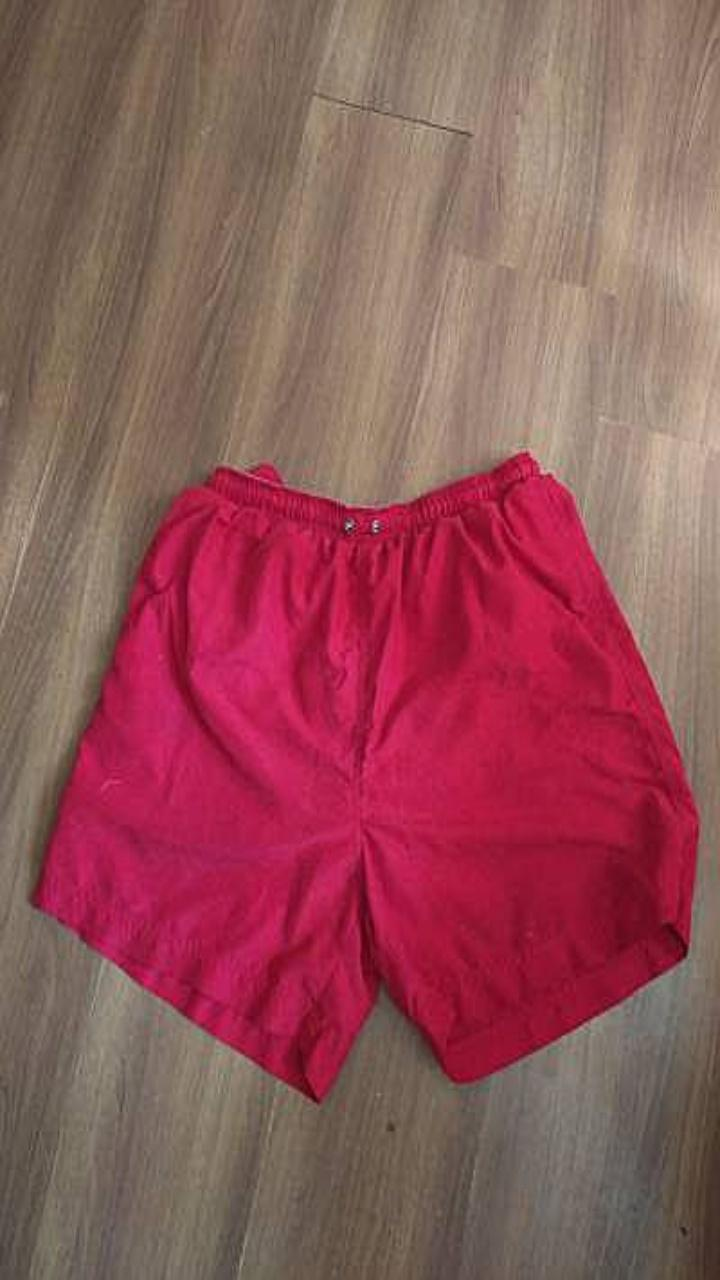Shorts: (31, 451, 698, 1100)
